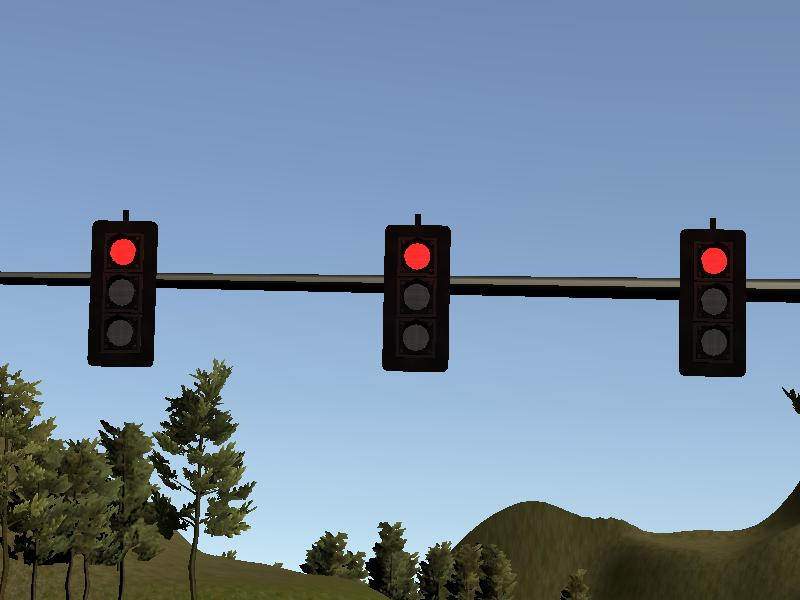red: (89, 221, 156, 367), (382, 224, 449, 370), (679, 229, 746, 375)
